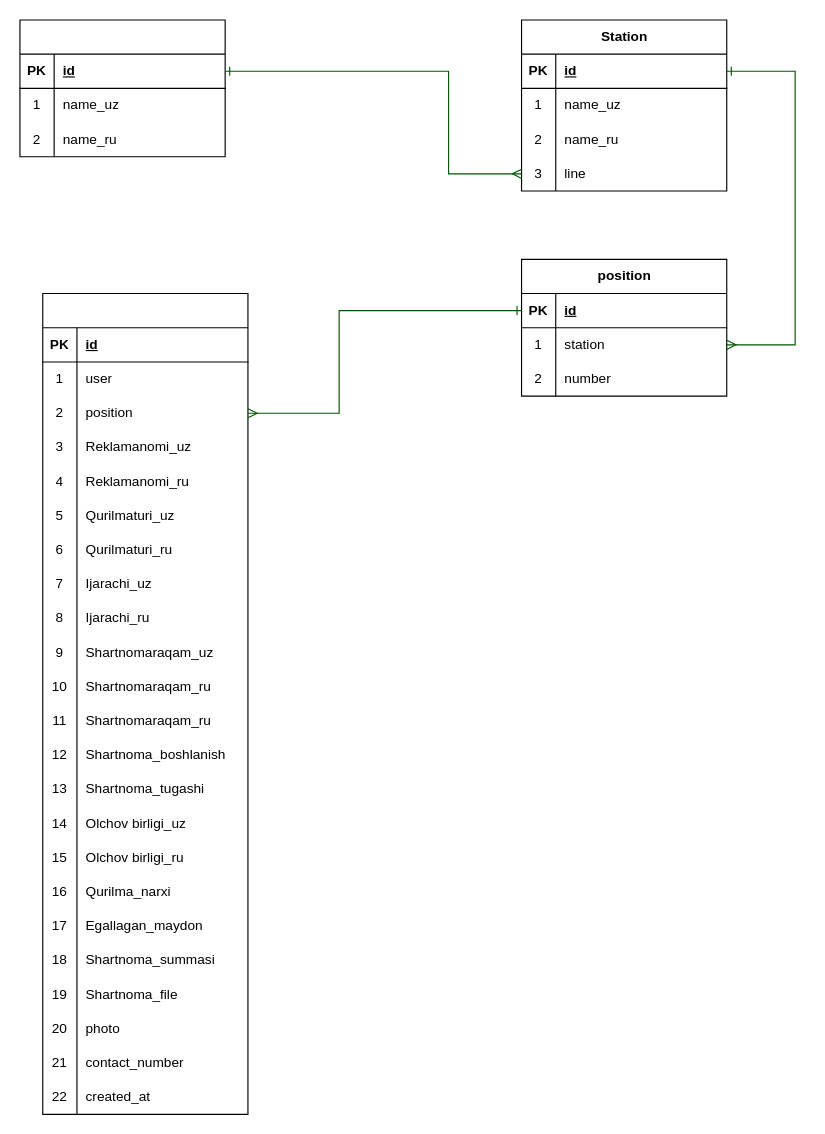
This 825x1134 diagram has some shape labels left out. The shapes that lost their labels are listed below. From the top down, each one's box as (x1, y1, x2, y2) in pixels, then its label:
(19, 19, 225, 157): MetroLine
(42, 292, 248, 1114): Advertisement
